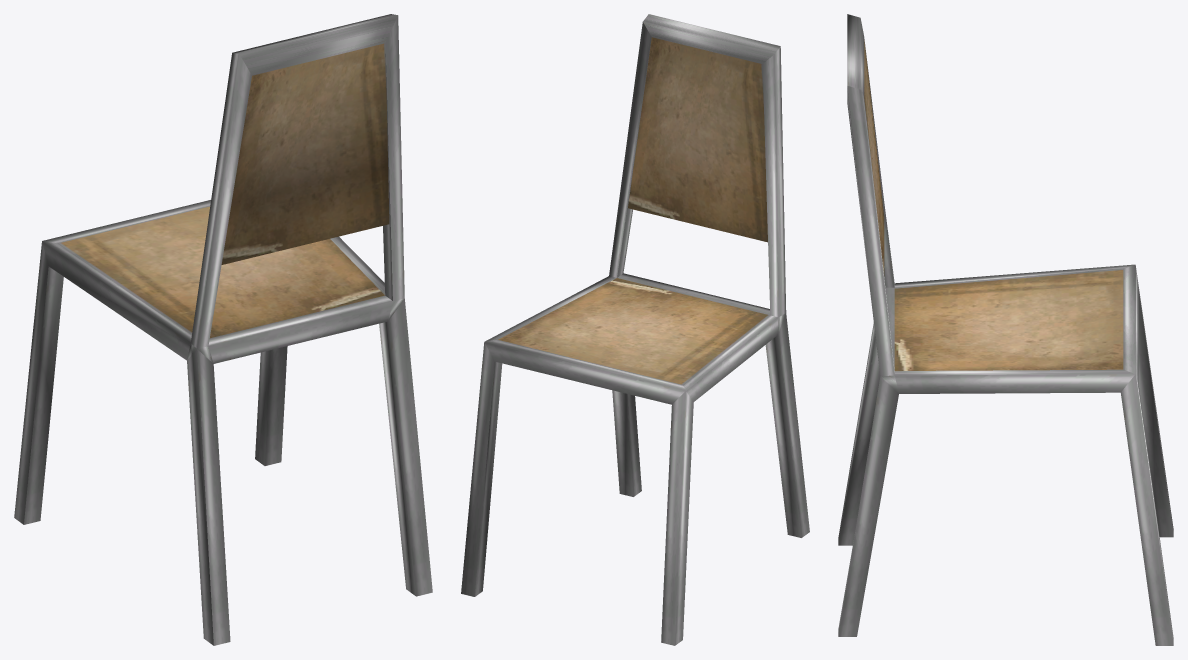
File: chair_kitchen.fbx
The picture shows the model from 3 angles, left to right: view 1: azimuth 30°, elevation 25°; view 2: azimuth 150°, elevation 25°; view 3: azimuth 270°, elevation 25°; orthographic projection. The views are drawn at different scales.
Visible parts, largest first — view 1: mesh_0; view 2: mesh_0; view 3: mesh_0.
Boxes of the visible parts, x1,y1,x2,y2 form: mesh_0: [14, 14, 432, 645]; mesh_0: [461, 14, 809, 645]; mesh_0: [838, 14, 1173, 645].
Bounding box in the file's own units: 45.93 × 99.03 × 55.97.
Materials: 1 (1 with a texture image).
